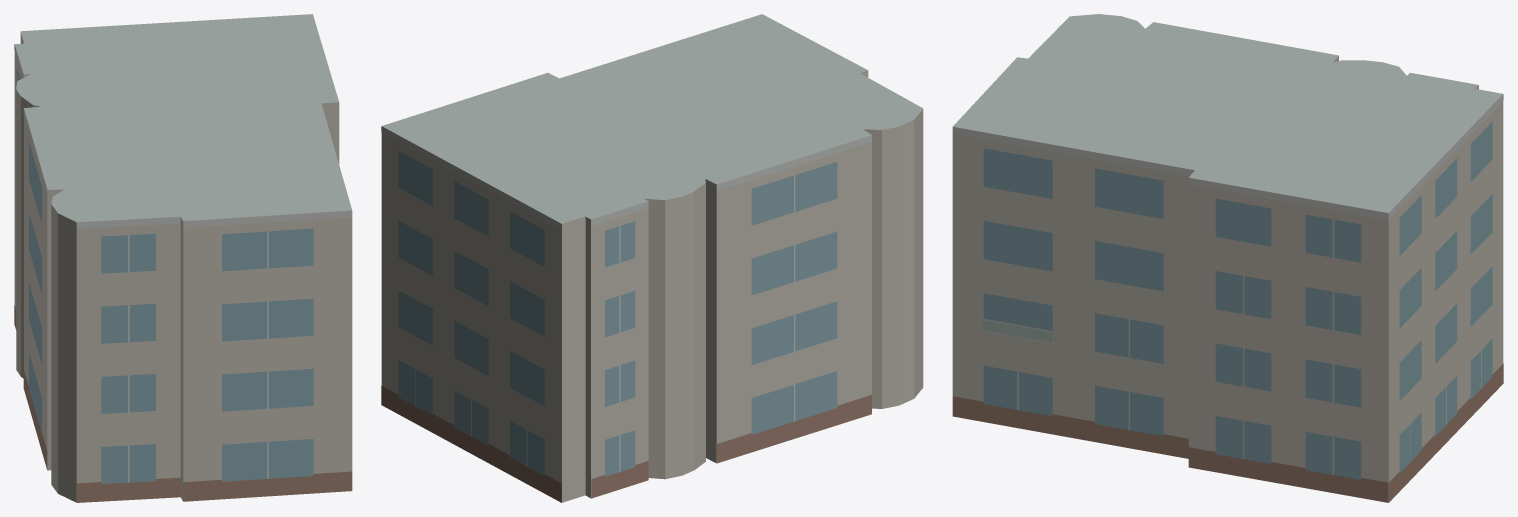
Rendered from survey-upis-32657848.glb.
The picture shows the model from 3 angles, left to right: view 1: azimuth 30°, elevation 25°; view 2: azimuth 150°, elevation 25°; view 3: azimuth 270°, elevation 25°; orthographic projection. The views are drawn at different scales.
Visible parts, largest first — view 1: survey-upis-32657848.tmp; view 2: survey-upis-32657848.tmp; view 3: survey-upis-32657848.tmp.
Boxes of the visible parts, <box> form: survey-upis-32657848.tmp: <box>14,14,352,502</box>; survey-upis-32657848.tmp: <box>381,14,923,502</box>; survey-upis-32657848.tmp: <box>952,14,1503,502</box>.
Size of the model in its own units: 15.05 by 10.2 by 17.58.
